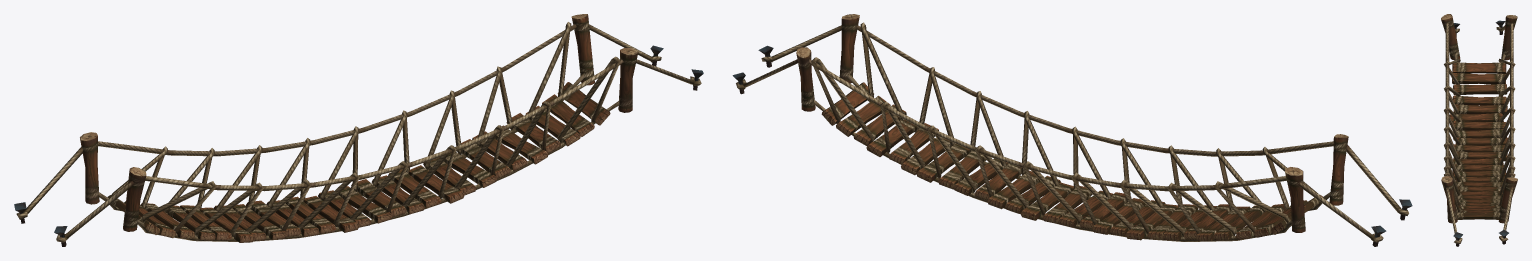
Rendered from rope_bridge_example_07.fbx.
3 renders of one model, left to right at view 1: azimuth 30°, elevation 25°; view 2: azimuth 150°, elevation 25°; view 3: azimuth 270°, elevation 25°, orthographic. The views are drawn at different scales.
Parts seen in each view (by area): view 1: rope_bridge_example_07; view 2: rope_bridge_example_07; view 3: rope_bridge_example_07.
Boxes of the visible parts, <box> form: rope_bridge_example_07: <box>14,14,703,246</box>; rope_bridge_example_07: <box>732,14,1412,246</box>; rope_bridge_example_07: <box>1441,14,1517,246</box>.
Bounding box in the file's own units: 1252 × 219 × 187.
